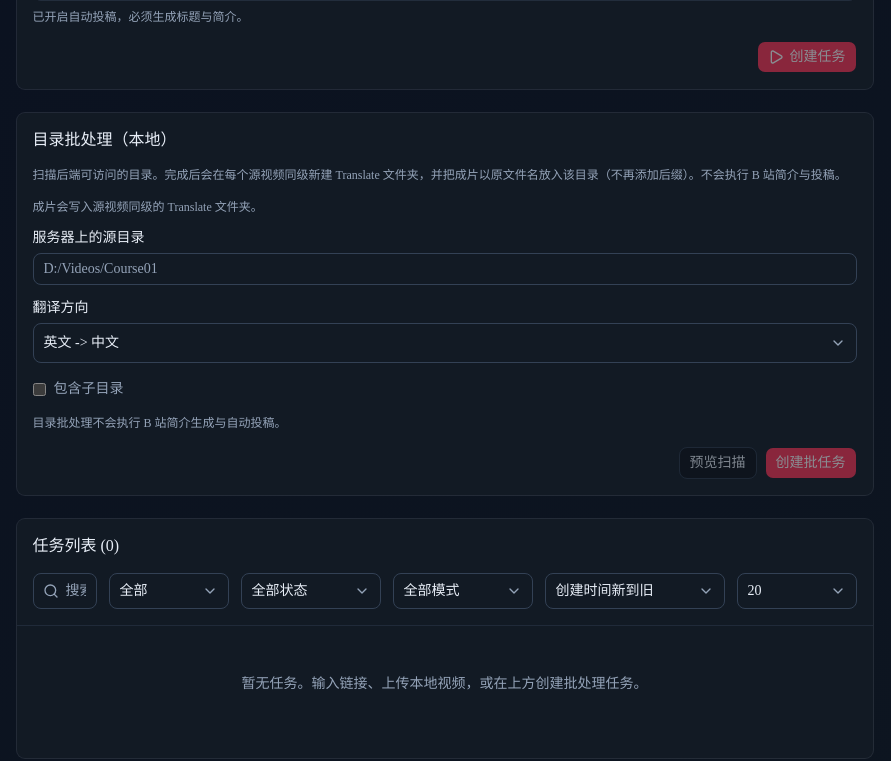
Test: 任务列表轮询 › 筛选变化后丢弃已取消请求的迟到响应
(page scrolled)
Step 1. Type "new" into the field with placeholder "搜索标题、链接或任务 ID" → (64, 591), box [32,573,96,609]
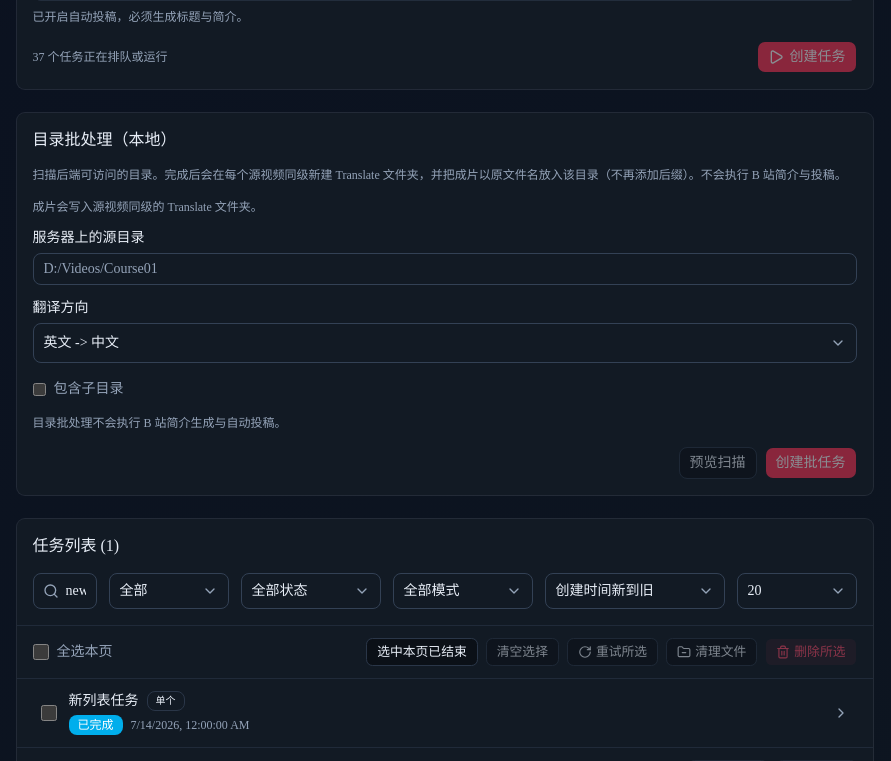
Now the text "新列表任务" is shown, box [68,691,138,711]
Now the text "37 个任务正在排队或运行" is shown, box [32,49,168,65]
